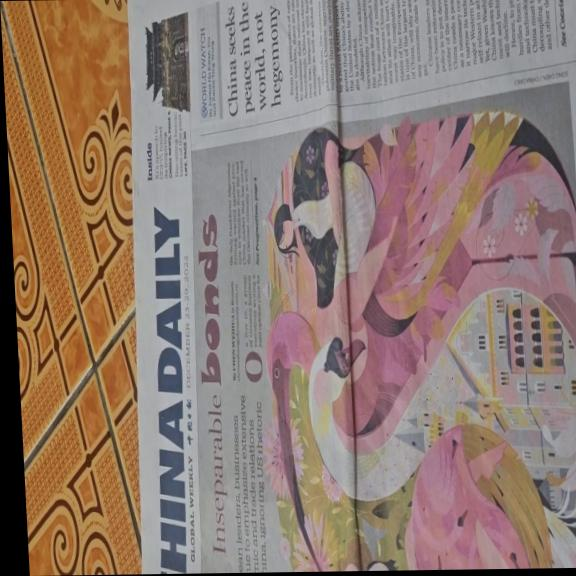Kertas: (113, 0, 576, 573)
